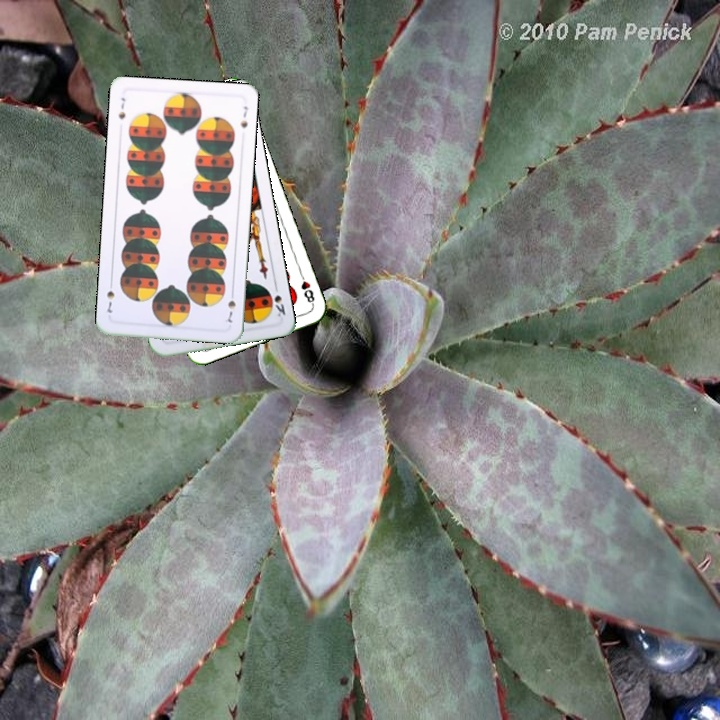H8: (296, 268, 317, 308)
S7: (224, 287, 238, 325), (115, 94, 128, 122)
SK: (270, 280, 288, 319)
